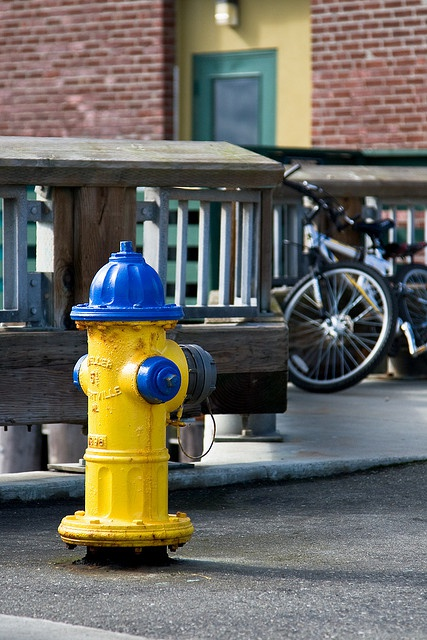non-vehicle: (283, 166, 396, 393), (322, 194, 425, 384)
